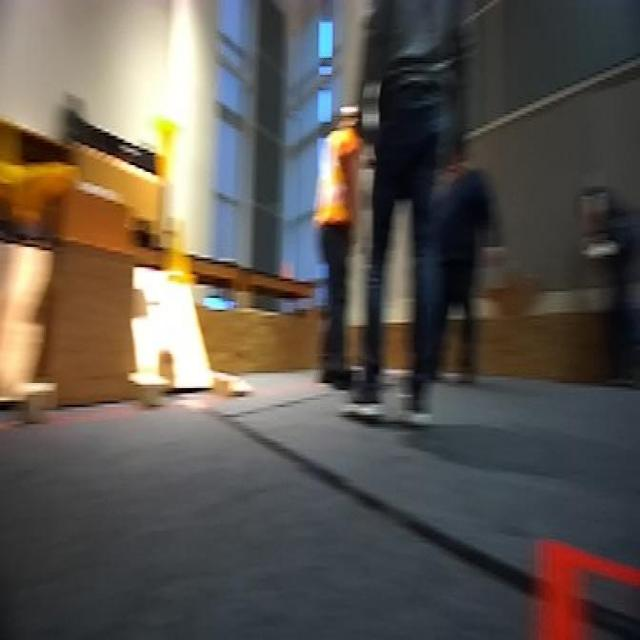frc_cone: (3, 146, 81, 228), (150, 104, 187, 182), (165, 220, 197, 296)
